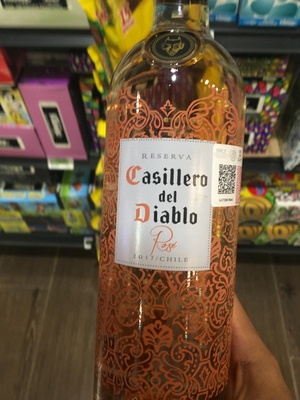casillero del diablo rose: (76, 15, 267, 369)
